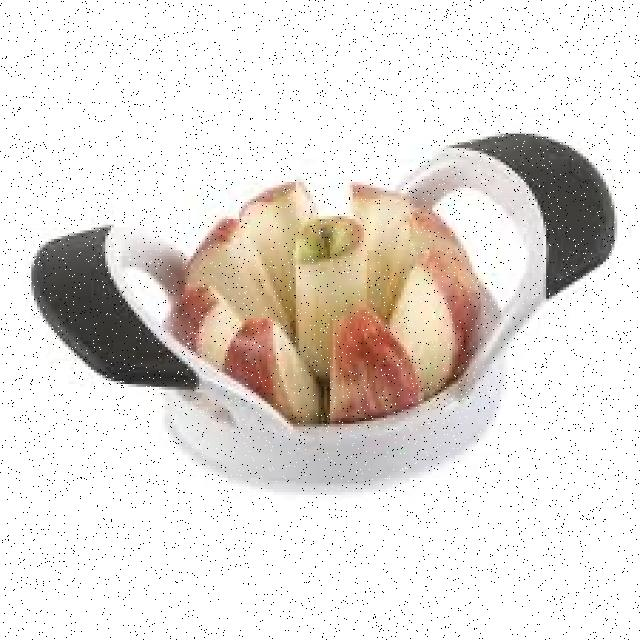Apple: (386, 249, 476, 387), (286, 205, 368, 352), (228, 312, 332, 426), (184, 220, 295, 326), (323, 313, 426, 409), (236, 191, 306, 297), (164, 286, 238, 363), (347, 180, 407, 266), (413, 214, 463, 270), (282, 178, 320, 238)
